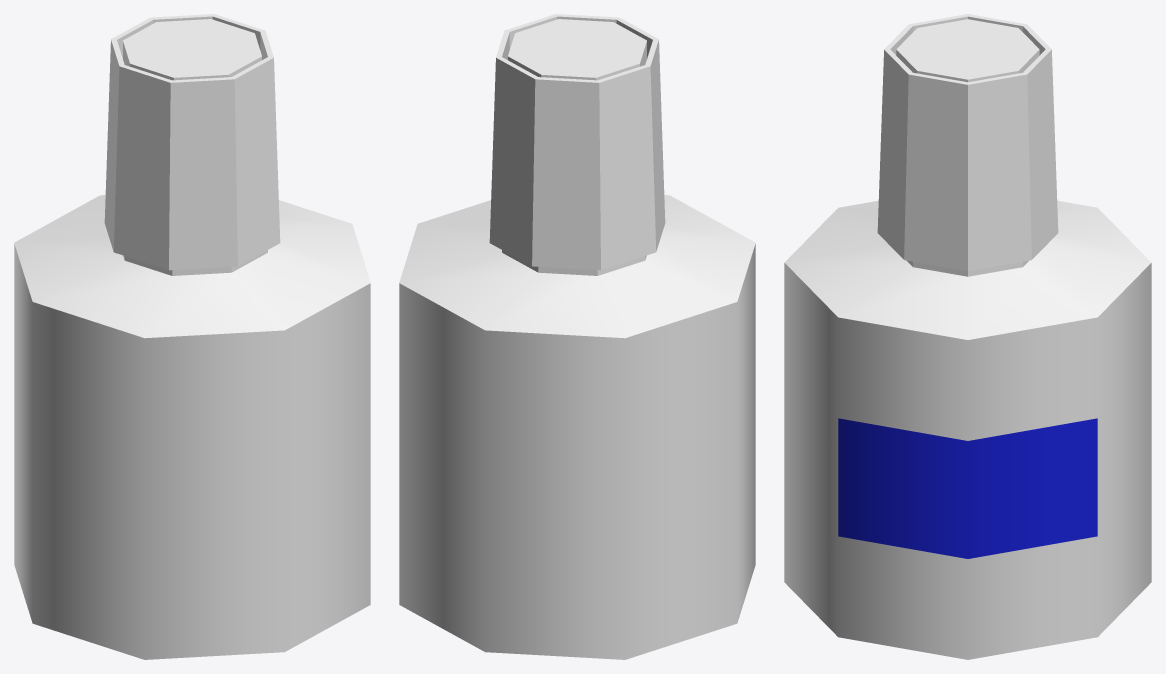
Rendered from BoteTipex.fbx.
3 renders of one model, left to right at view 1: azimuth 30°, elevation 25°; view 2: azimuth 150°, elevation 25°; view 3: azimuth 270°, elevation 25°, orthographic.
Parts seen in each view (by area): view 1: Cylinder001; view 2: Cylinder001; view 3: Cylinder001.
Part boxes in pixels (bbox=[...]): Cylinder001: bbox=[14, 14, 370, 659]; Cylinder001: bbox=[399, 14, 755, 659]; Cylinder001: bbox=[784, 14, 1151, 659].
Bounding box in the file's own units: 0.26 × 0.4166 × 0.26.
